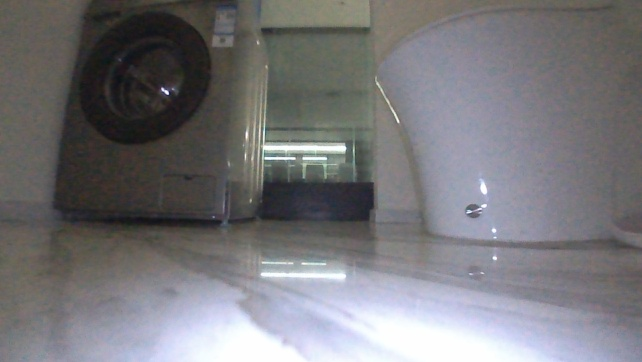toilet: (369, 5, 635, 246)
washing_machine: (49, 5, 271, 224)
